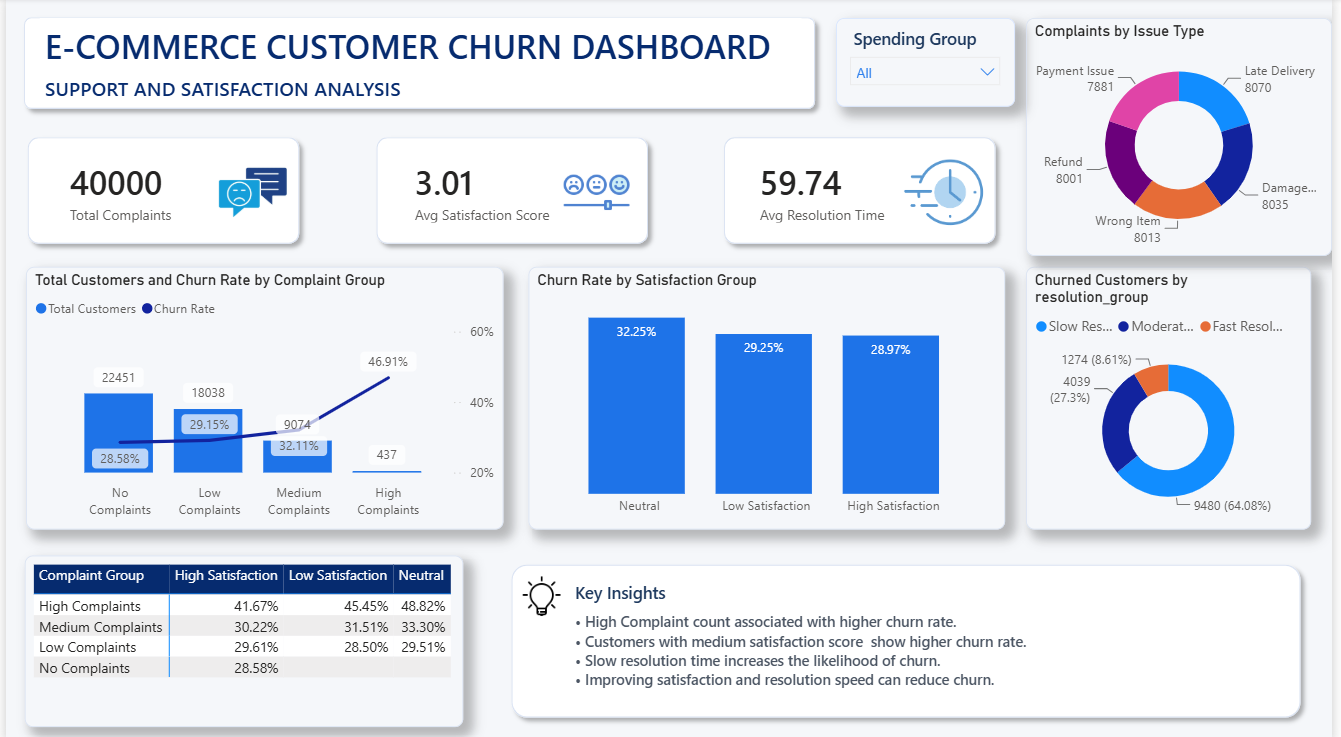

The page's visual inventory and layout, read from the dashboard file:
{"tool":"powerbi","page":{"name":"Support and Satisfaction Analysis","canvas":[1280,720],"ordinal":2},"visuals":[{"type":"shape","box":[684.1,125.5,279.9,120.6],"z":0},{"type":"shape","box":[348.2,125,280,120.6],"z":1000},{"type":"shape","box":[12.3,125,280,120.6],"z":2000},{"type":"cardVisual","fields":{"Data":["Avg(public vw_customer_complaints.avg_resolution_time)"]},"box":[698.5,138.7,250.9,95.3],"z":3000},{"type":"lineClusteredColumnComboChart","fields":{"Category":["public vw_customer_complaints.complaint_group"],"Y2":["Measure Table.Churn Rate"],"Y":["Measure Table.Total Customers"]},"box":[19.2,259.3,461.1,253.9],"z":4000},{"type":"clusteredColumnChart","fields":{"Y":["Measure Table.Churn Rate"],"Category":["public vw_customer_complaints.satisfaction_group"]},"box":[504.3,259.4,459.7,253.4],"z":5000},{"type":"donutChart","fields":{"Category":["public vw_customer_complaints.resolution_group"],"Y":["Measure Table.Churned Customers"]},"box":[984.5,259.4,275.1,253.4],"z":6000},{"type":"pivotTable","fields":{"Rows":["public vw_customer_complaints.complaint_group"],"Values":["Measure Table.Churn Rate"],"Columns":["public vw_customer_complaints.satisfaction_group"]},"box":[18.1,538.1,423.5,165.3],"z":7000},{"type":"cardVisual","fields":{"Data":["Avg(public vw_customer_complaints.avg_satisfaction)"]},"box":[365.6,138.7,248.5,95.3],"z":8000},{"type":"cardVisual","fields":{"Data":["Measure Table.Total Complaints"]},"box":[32.6,138.7,241.3,95.3],"z":9000},{"type":"shape","box":[8.6,9.8,781.4,106.4],"z":10000},{"type":"textbox","box":[33,19.6,734.9,69.7],"z":11000},{"type":"textbox","box":[33,69.7,734.9,35.5],"z":12000},{"type":"slicer","fields":{"Values":["public vw_customer_spending.spending_group"]},"box":[801.1,19.3,172.5,85.7],"z":13000},{"type":"image","box":[194.2,148.4,88.1,78.4],"z":14000},{"type":"image","box":[526,148.4,88.1,78.4],"z":15000},{"type":"image","box":[860.2,148.4,89.3,78.4],"z":16000},{"type":"shape","box":[479,538.1,779.4,165.3],"z":17000},{"type":"image","box":[487.4,557.4,59.1,41],"z":18000},{"type":"textbox","box":[544.1,557.4,405.4,39.8],"z":19000},{"type":"textbox","box":[544.1,587.5,686.5,101.3],"z":20000},{"type":"donutChart","fields":{"Category":["public cust_support.issue_type"],"Y":["CountNonNull(public cust_support.ticket_id)"]},"box":[984.5,19.3,275.1,229.2],"z":21000}]}

Visuals, with their boxes in screenshot pixels (x1, y1, x2, y2), scaled from the page's 1280x720 canvas onto the 1341x737 screenshot:
shape: (717, 128, 1010, 252)
shape: (365, 128, 658, 251)
shape: (13, 128, 306, 251)
cardVisual - Avg(public vw_customer_complaints.avg_resolution_time): (732, 142, 995, 240)
lineClusteredColumnComboChart - public vw_customer_complaints.complaint_group x Measure Table.Churn Rate: (20, 265, 503, 525)
clusteredColumnChart - Measure Table.Churn Rate x public vw_customer_complaints.satisfaction_group: (528, 266, 1010, 525)
donutChart - public vw_customer_complaints.resolution_group x Measure Table.Churned Customers: (1031, 266, 1320, 525)
pivotTable - public vw_customer_complaints.complaint_group x Measure Table.Churn Rate: (19, 551, 463, 720)
cardVisual - Avg(public vw_customer_complaints.avg_satisfaction): (383, 142, 643, 240)
cardVisual - Measure Table.Total Complaints: (34, 142, 287, 240)
shape: (9, 10, 828, 119)
textbox: (35, 20, 804, 91)
textbox: (35, 71, 804, 108)
slicer - public vw_customer_spending.spending_group: (839, 20, 1020, 107)
image: (203, 152, 296, 232)
image: (551, 152, 643, 232)
image: (901, 152, 995, 232)
shape: (502, 551, 1318, 720)
image: (511, 571, 573, 613)
textbox: (570, 571, 995, 611)
textbox: (570, 601, 1289, 705)
donutChart - public cust_support.issue_type x CountNonNull(public cust_support.ticket_id): (1031, 20, 1320, 254)
